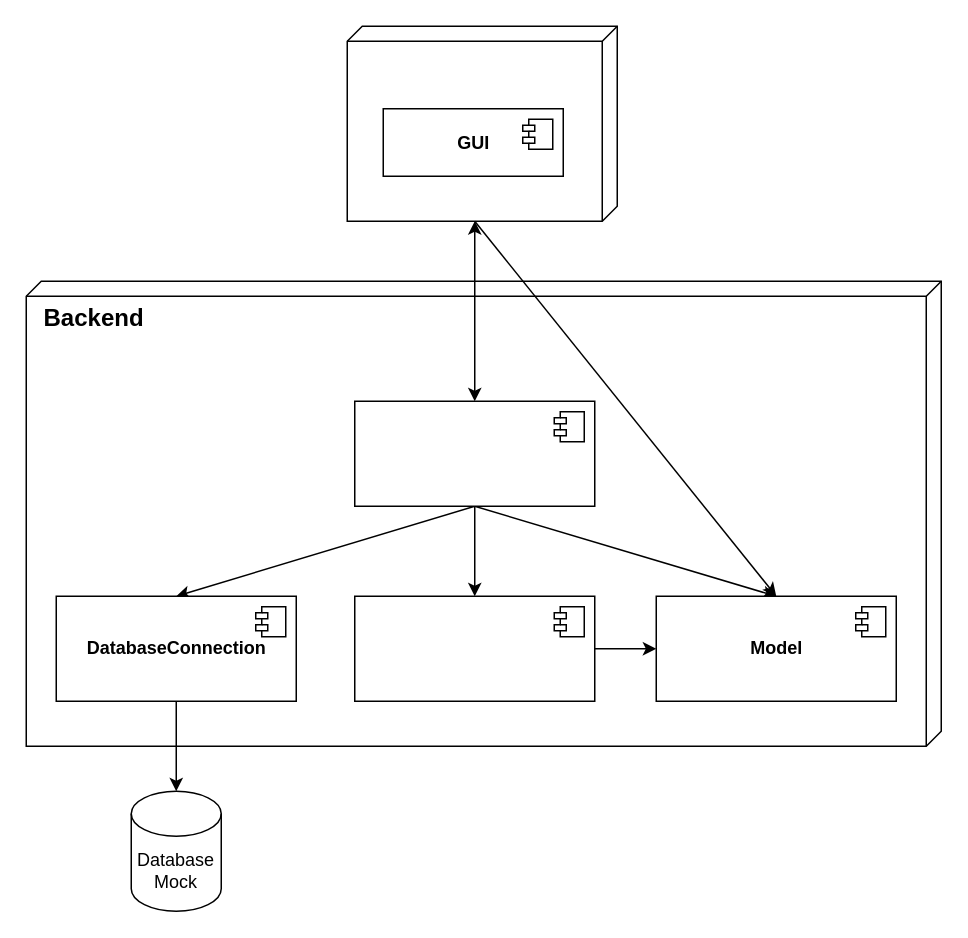
This 968x938 diagram has some shape labels left out. Here are the shapes that lost their labels. From the top down, the box of each, then its label:
(346, 25, 617, 221): Frontend
(353, 400, 595, 506): ContactController
(353, 595, 595, 701): InputConverter
